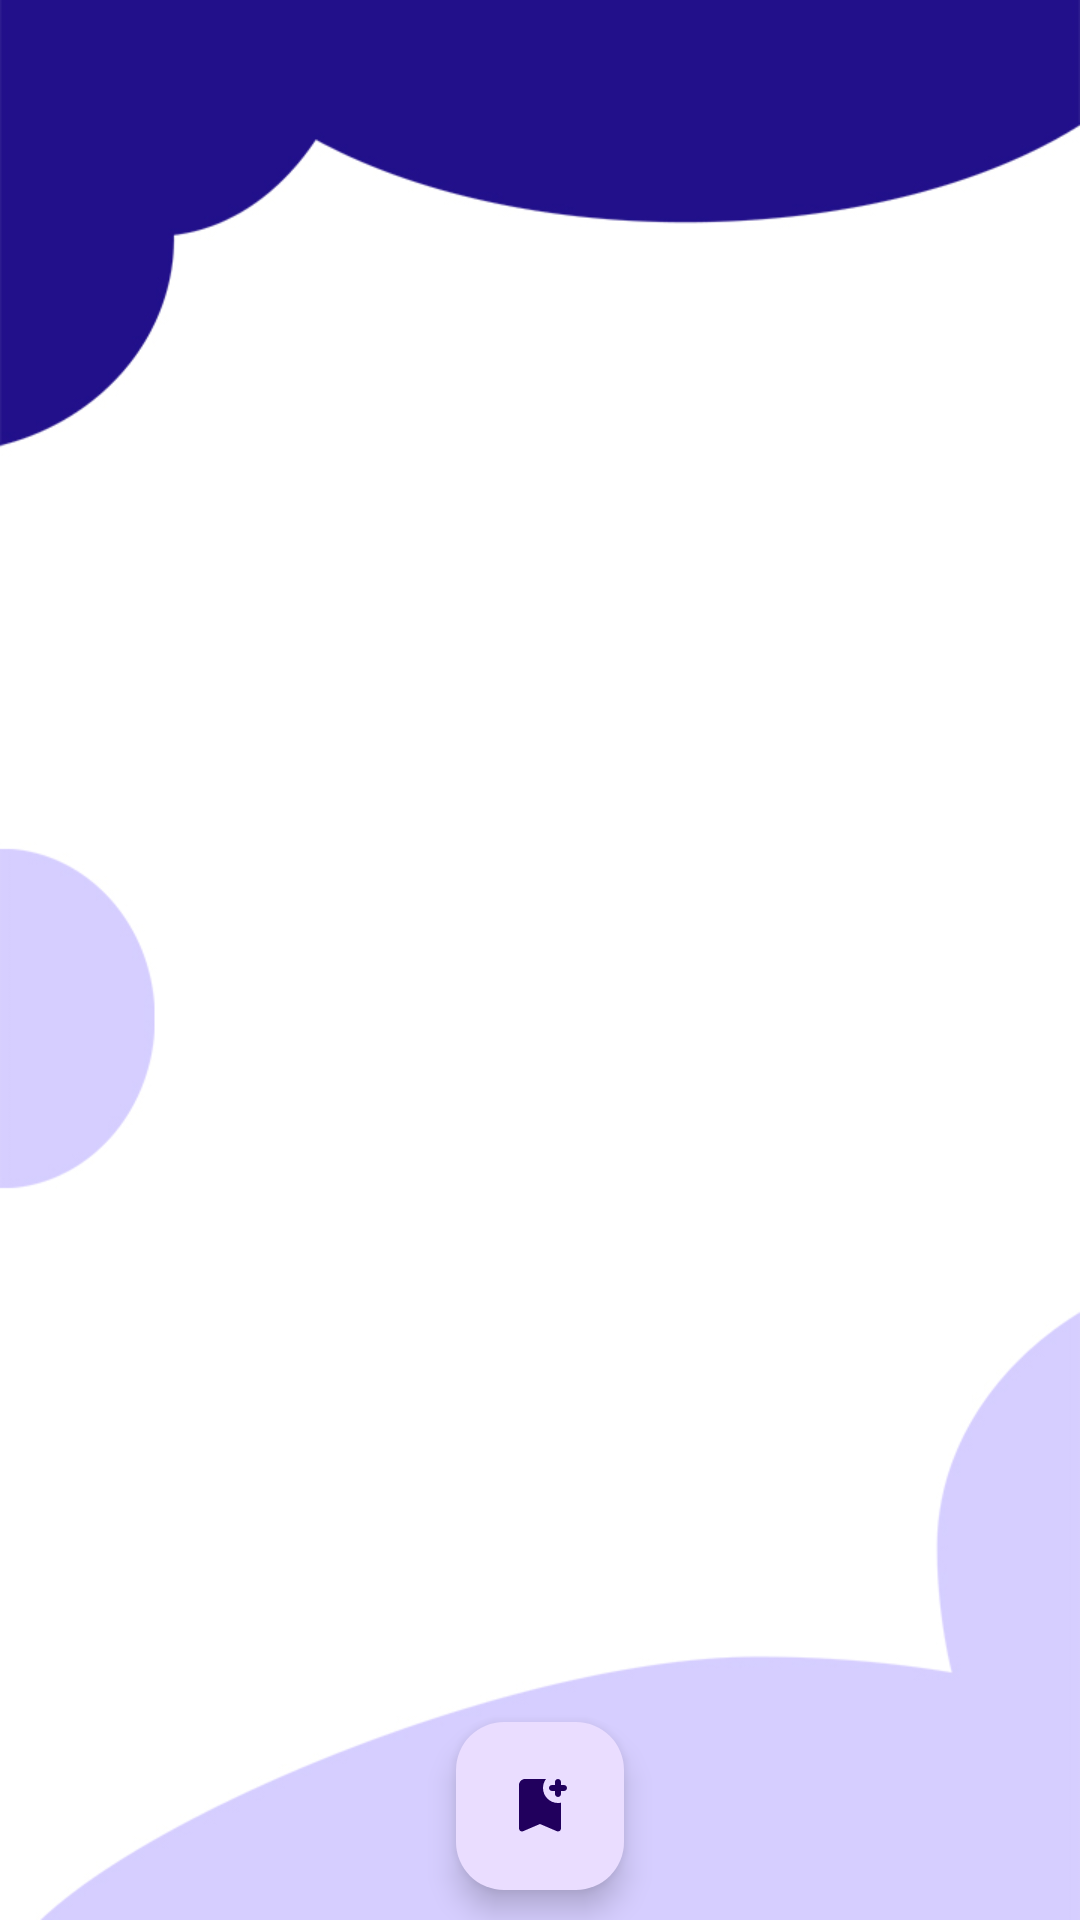

Screen size 1080w x 1920h. Icon name, then its center in pixels as [x,y]:
add: [540,1806]
